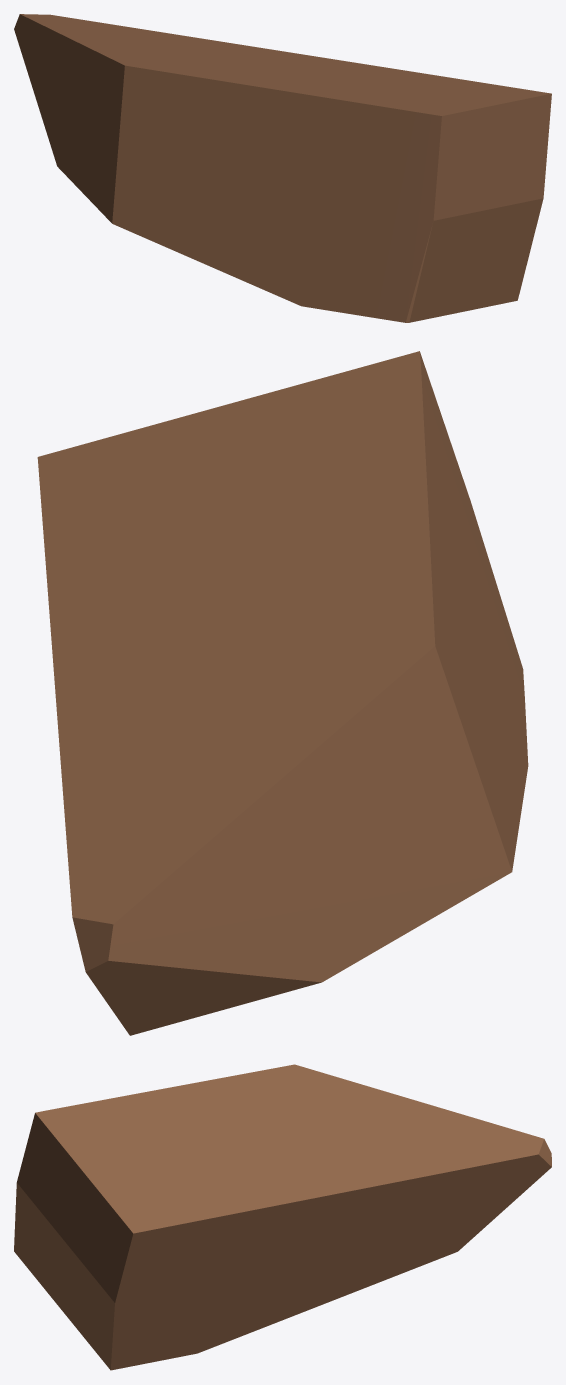
File: WoodCellCube_003_cell_036.fbx
3 views of the same model, one above another, from view 1: azimuth 30°, elevation 25°; view 2: azimuth 150°, elevation 25°; view 3: azimuth 270°, elevation 25° (orthographic). The views are drawn at different scales.
Parts seen in each view (by area): view 1: WoodCellCube_003_cell_036; view 2: WoodCellCube_003_cell_036; view 3: WoodCellCube_003_cell_036.
Boxes of the visible parts, box(x1,y1,x2,y2) form: WoodCellCube_003_cell_036: box(14, 14, 551, 322); WoodCellCube_003_cell_036: box(37, 351, 528, 1035); WoodCellCube_003_cell_036: box(14, 1064, 551, 1370).
Size of the model in its own units: 1.36 by 0.5982 by 0.8886.
Materials: 1 (1 with a texture image).
